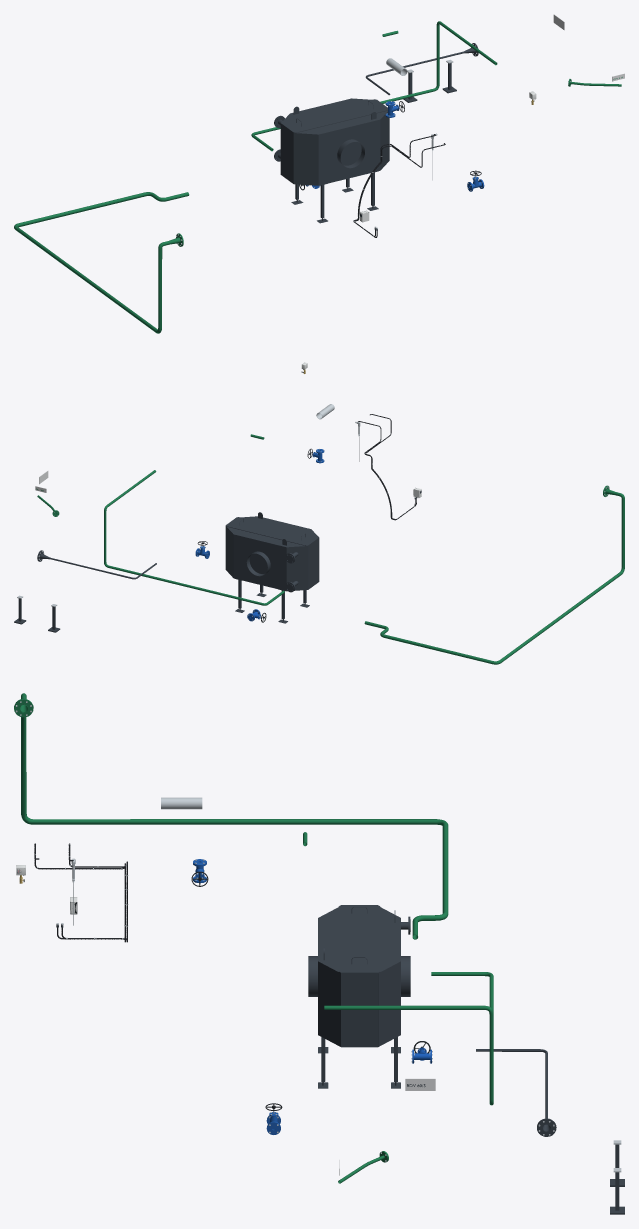
File: s4000-7-B-v3VZsJ.glb
3 views of the same model, one above another, from view 1: azimuth 30°, elevation 25°; view 2: azimuth 150°, elevation 25°; view 3: azimuth 270°, elevation 25° (orthographic). The views are drawn at different scales.
Parts seen in each view (by area): view 1: EQS2-2000 CAD 0, EQS2-2000 CAD 3, deaerator_feed / green, EQS2-2000 CAD 1, to_economizer / green; view 2: EQS2-2000 CAD 0, EQS2-2000 CAD 3, deaerator_feed / green, EQS2-2000 CAD 2, to_economizer / green; view 3: EQS2-2000 CAD 3, deaerator_feed / green, to_economizer / green, EQS2-2000 CAD 0.
Part boxes in pixels (bbox=[...]): EQS2-2000 CAD 0: bbox=[291, 119, 380, 223]; EQS2-2000 CAD 3: bbox=[280, 98, 389, 183]; deaerator_feed / green: bbox=[14, 192, 189, 333]; EQS2-2000 CAD 1: bbox=[293, 133, 318, 185]; to_economizer / green: bbox=[251, 21, 497, 151]; EQS2-2000 CAD 0: bbox=[233, 534, 309, 623]; EQS2-2000 CAD 3: bbox=[225, 512, 319, 589]; deaerator_feed / green: bbox=[364, 485, 624, 664]; EQS2-2000 CAD 2: bbox=[285, 546, 308, 592]; to_economizer / green: bbox=[104, 470, 284, 605]; EQS2-2000 CAD 3: bbox=[318, 905, 400, 1047]; deaerator_feed / green: bbox=[14, 693, 448, 939]; to_economizer / green: bbox=[324, 972, 493, 1105]; EQS2-2000 CAD 0: bbox=[308, 956, 410, 1088].
Bounding box in the file's own units: 9.48 × 2.95 × 6.05.
